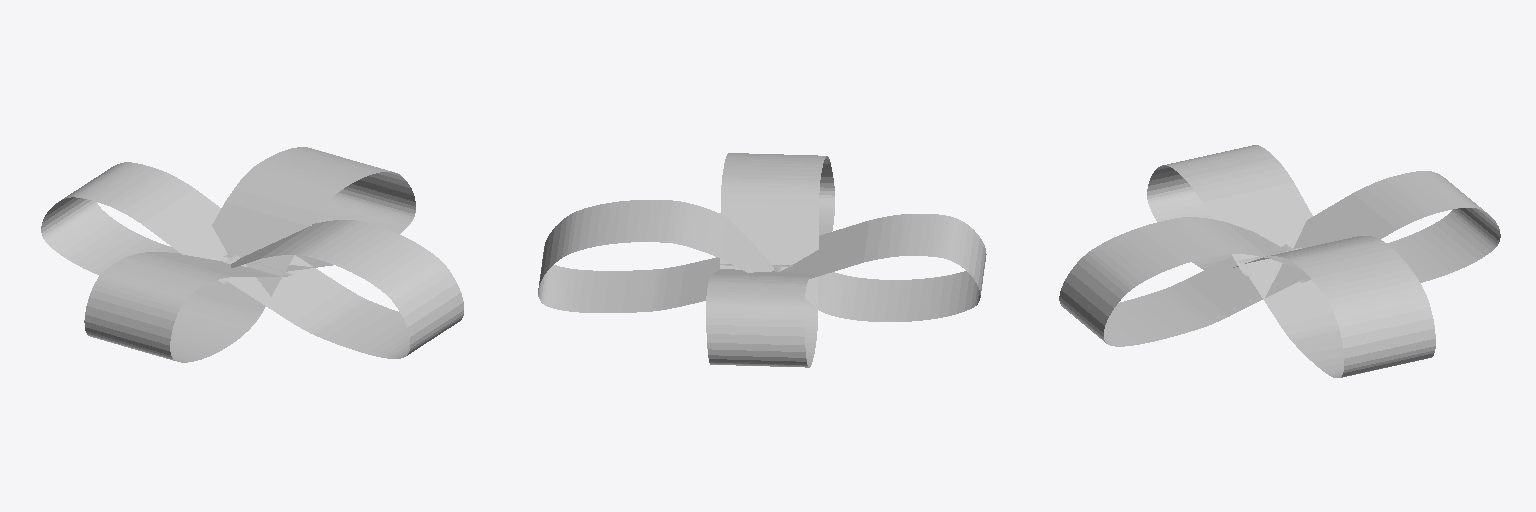
The model's file is ribbon1.obj.
The picture shows the model from 3 angles: view 1: azimuth 30°, elevation 25°; view 2: azimuth 150°, elevation 25°; view 3: azimuth 270°, elevation 25°; orthographic projection.
Visible parts, largest first — view 1: laço_4_Cube_1_Extrude_NURBS.002, laço_3_Cube_1_Extrude_NURBS_1.002; view 2: laço_3_Cube_1_Extrude_NURBS_1.002, laço_4_Cube_1_Extrude_NURBS.002; view 3: laço_4_Cube_1_Extrude_NURBS.002, laço_3_Cube_1_Extrude_NURBS_1.002.
Part boxes in pixels (bbox=[...]): laço_4_Cube_1_Extrude_NURBS.002: bbox=[41, 162, 463, 358]; laço_3_Cube_1_Extrude_NURBS_1.002: bbox=[84, 147, 415, 362]; laço_3_Cube_1_Extrude_NURBS_1.002: bbox=[538, 200, 986, 321]; laço_4_Cube_1_Extrude_NURBS.002: bbox=[706, 153, 834, 367]; laço_4_Cube_1_Extrude_NURBS.002: bbox=[1059, 171, 1500, 346]; laço_3_Cube_1_Extrude_NURBS_1.002: bbox=[1147, 145, 1435, 377].
Size of the model in its own units: 0.917 by 0.1793 by 0.9128.